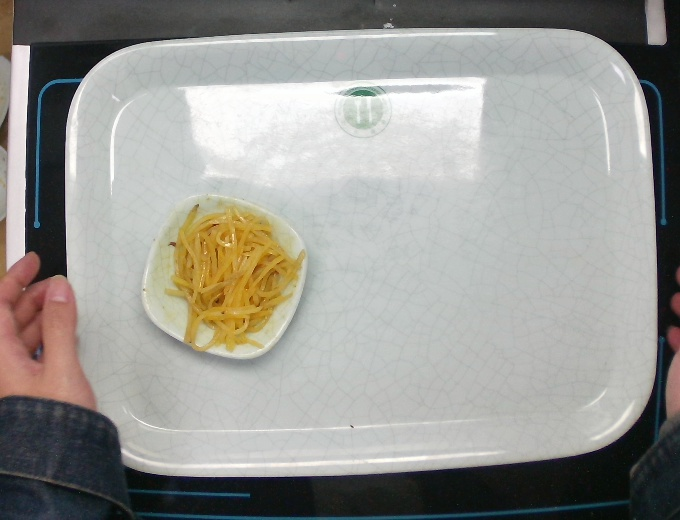JYsf-Si_Fang_Die: (111, 175, 332, 373)
